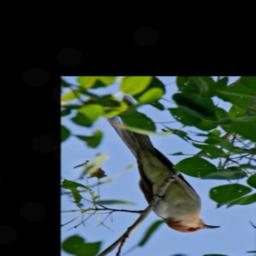Cuckoo: (102, 94, 221, 234)
